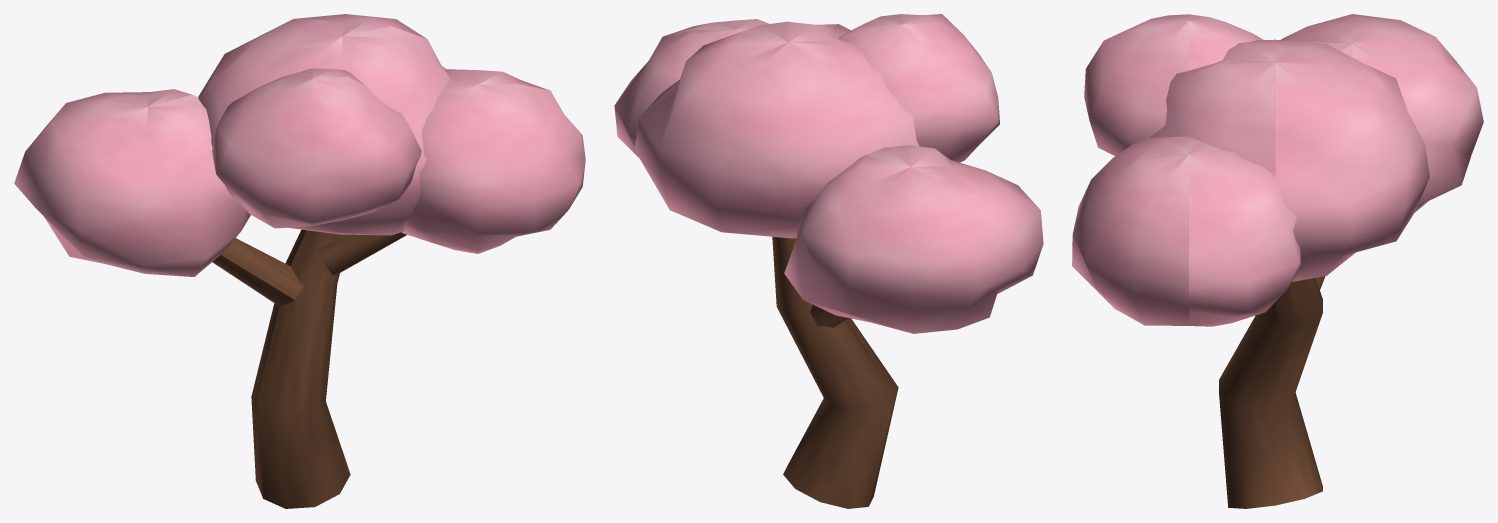
File: blossom.glb
3 views of the same model, side by side, from view 1: azimuth 30°, elevation 25°; view 2: azimuth 150°, elevation 25°; view 3: azimuth 270°, elevation 25° (orthographic). The views are drawn at different scales.
Parts seen in each view (by area): view 1: blossom; view 2: blossom; view 3: blossom.
Boxes of the visible parts, x1=… form: blossom: x1=14, y1=14, x2=585, y2=508; blossom: x1=614, y1=14, x2=1043, y2=508; blossom: x1=1072, y1=14, x2=1483, y2=508.
Bounding box in the file's own units: 118 × 109 × 85.59.
2 materials, 2 textured.
